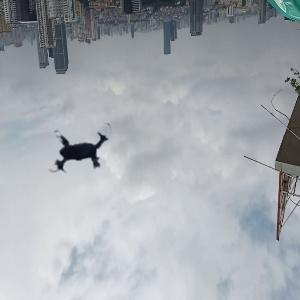drone: (36, 106, 123, 193)
